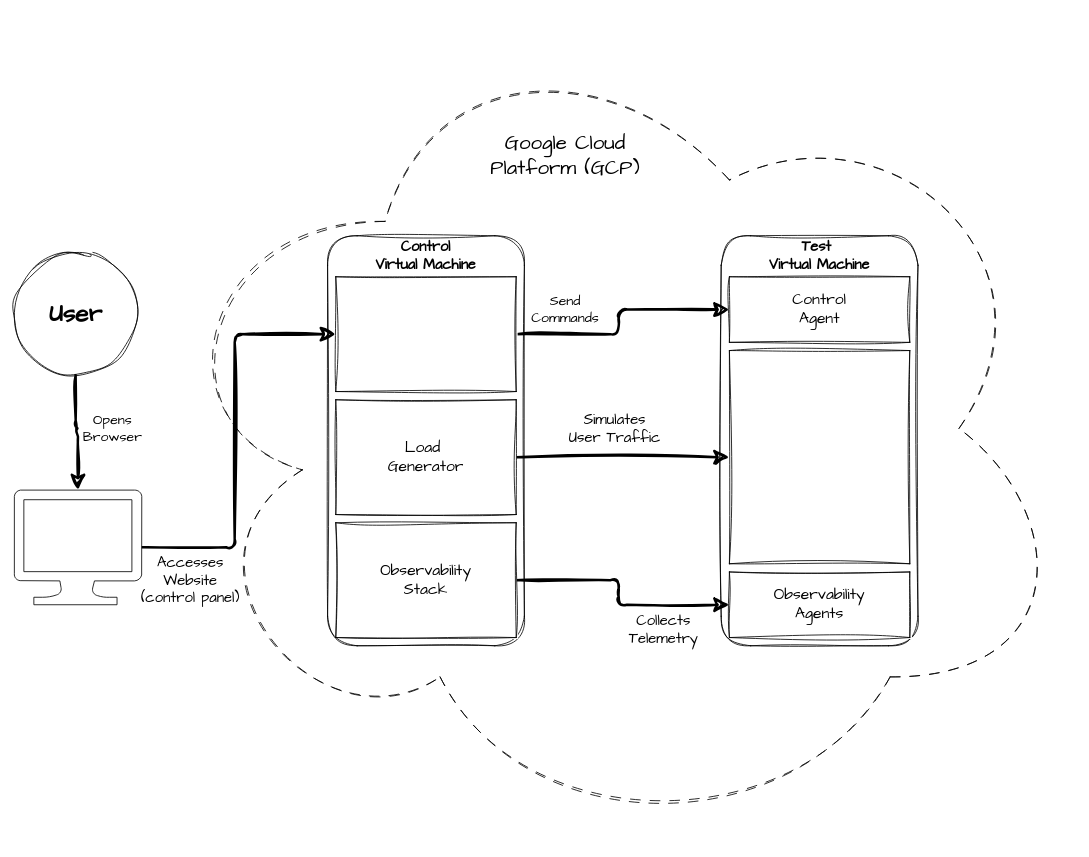
This 1089x857 diagram has some shape labels left out. The shapes that lost their labels are listed below. From the top down, each one's centre as x and y in pixels, then its label:
the point at 425,334: Control Plane
the point at 819,457: System Under Test
the point at 77,547: Computer
